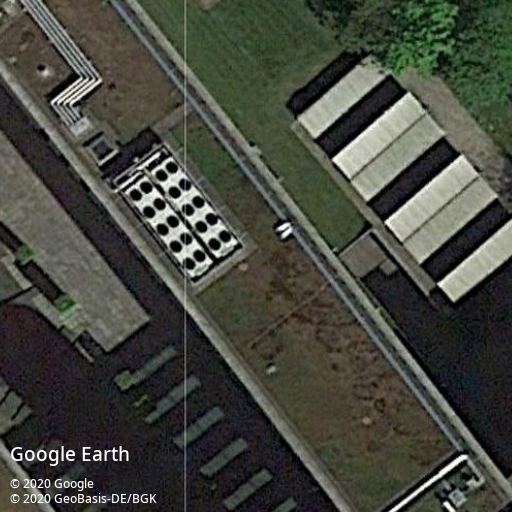Chiller: (151, 156, 239, 259), (124, 175, 213, 276)
